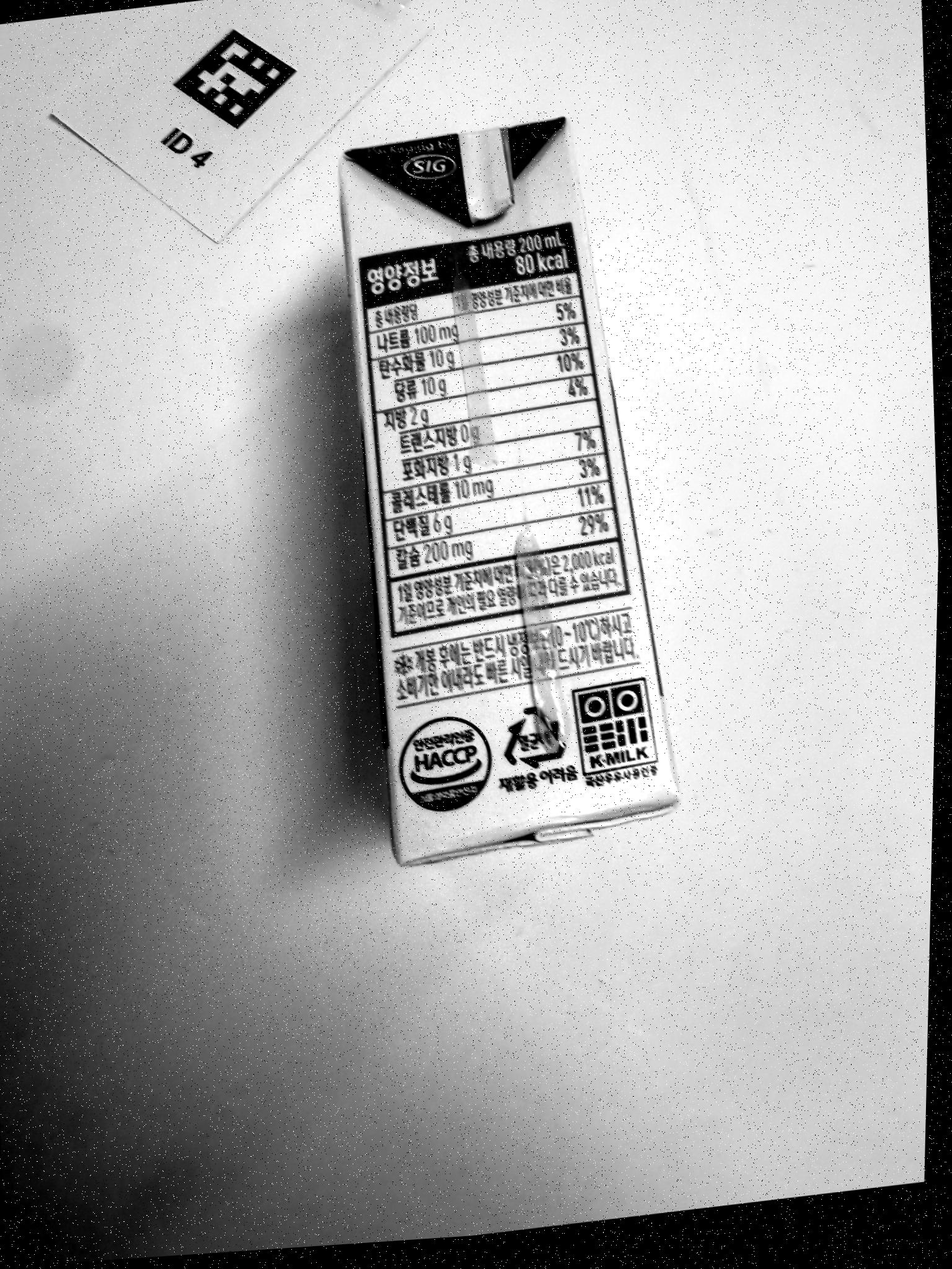milk_blue: (340, 120, 677, 864)
